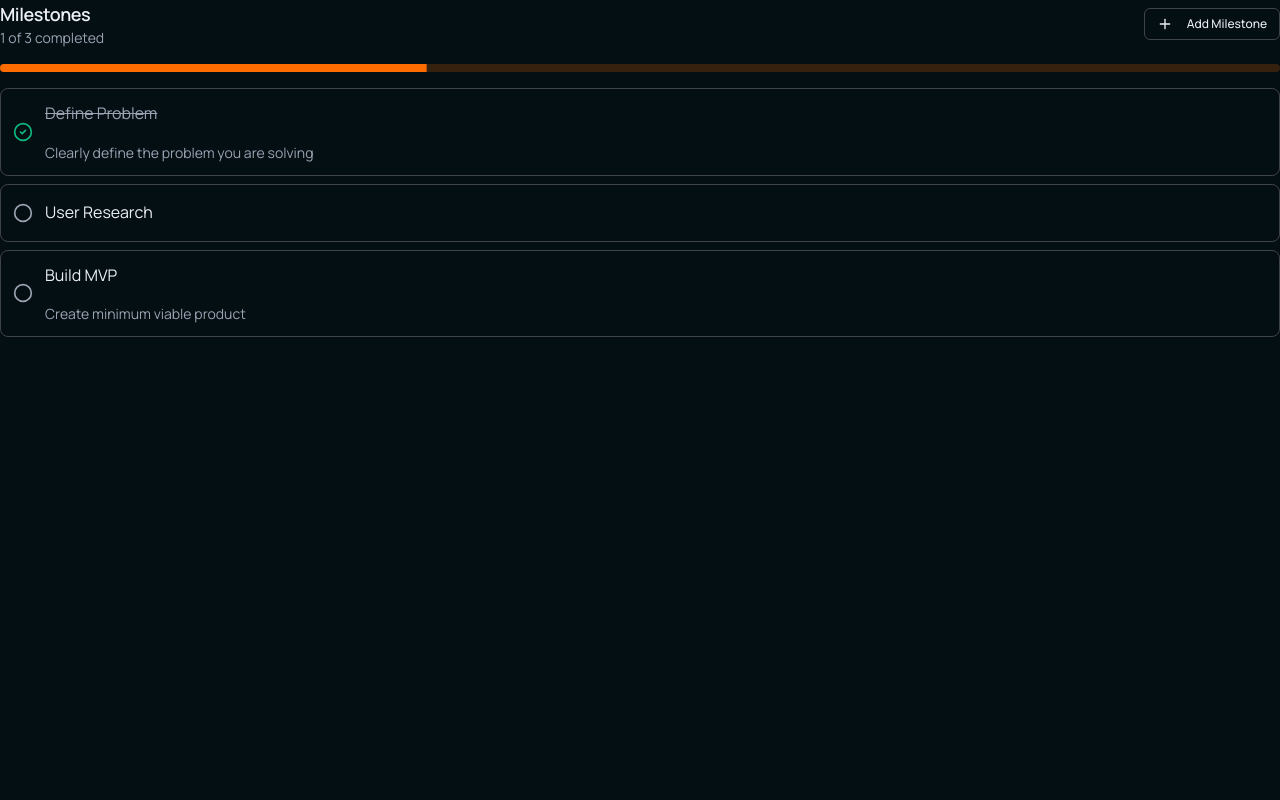
Test case: MilestoneProgress › should open dialog when Add Milestone is clicked
This screenshot has width=1280, height=800.
Click the button "Add Milestone": (1212, 24) [1144,8,1279,40]
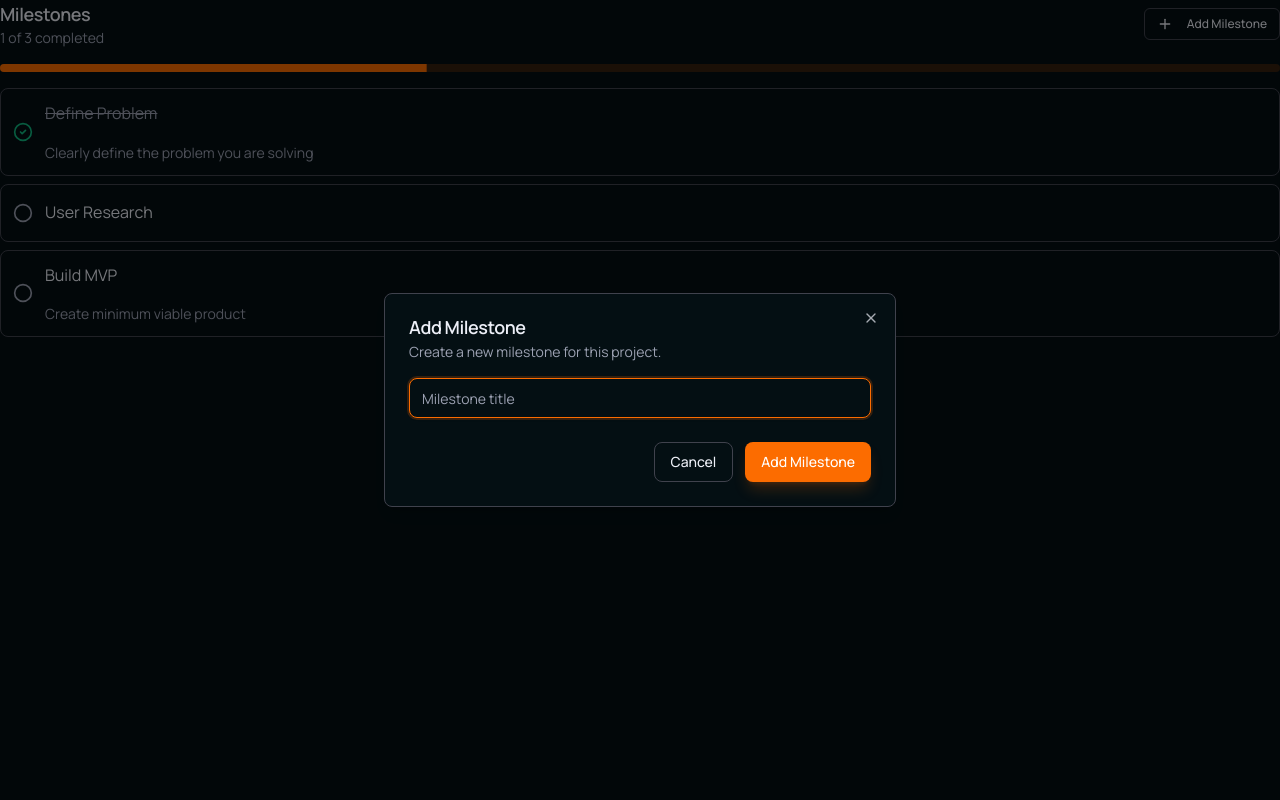
Now the dialog is shown, box [384,293,896,507]
Now the field with placeholder "Milestone title" is shown, box [409,378,871,418]
